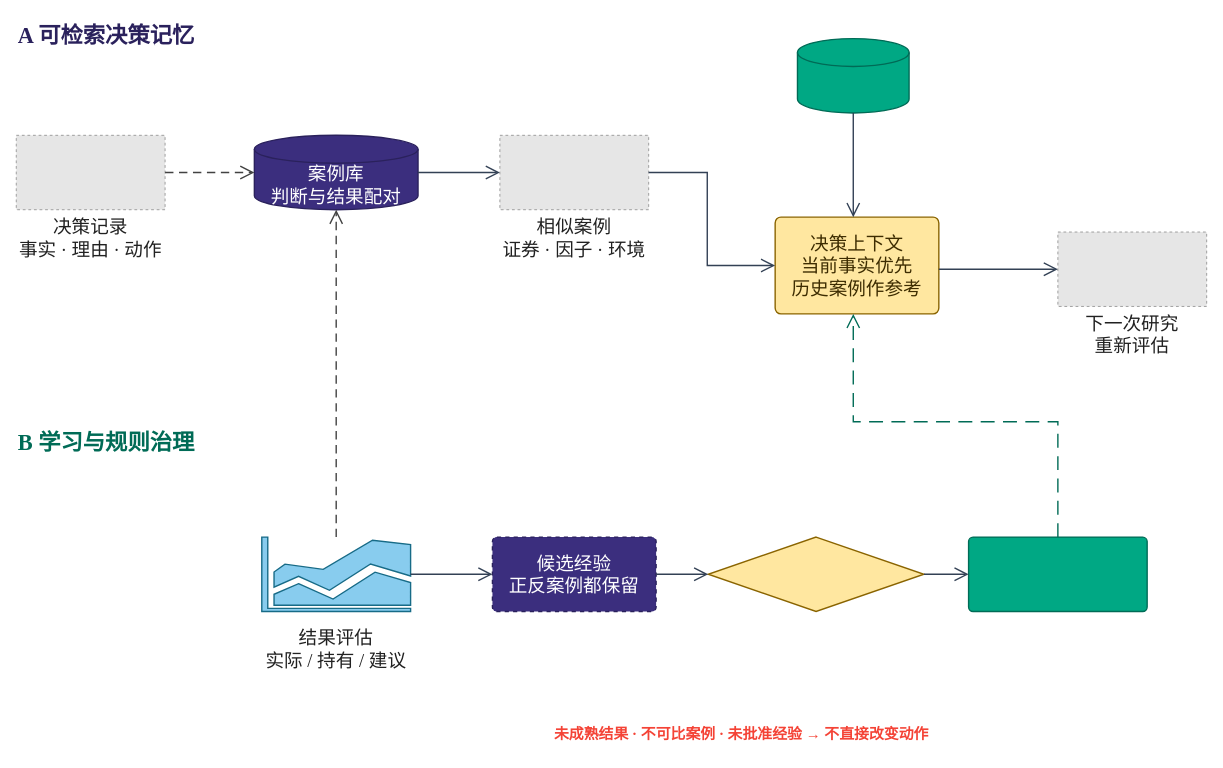
The diagram is 1223 pixels wide and 768 high, and some of its shapes have lost their labels. Grey dashed boxes stand in for pictures. Here are the shapes that lost their labels. From the top down, the centre of each, then its label:
At point (852, 75): "当前事实 始终优先".
At point (815, 574): "验证门禁 样本 · 成本 · 回撤".
At point (1057, 574): "已批准规则 达标 + 用户确认".
